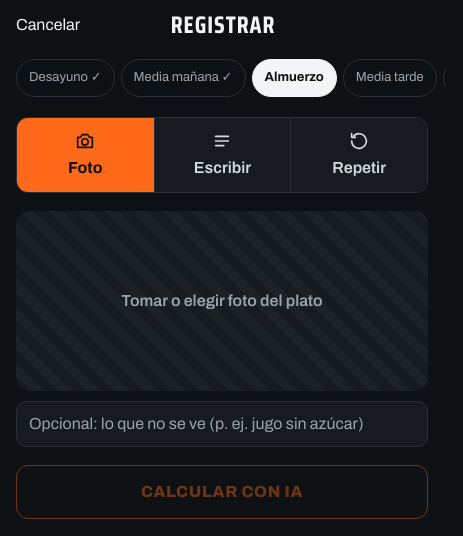
Test: FormRegistrar › al cambiar a Desayuno, Repetir muestra los desayunos
Click the tab "Repetir": (359, 154) x1=290 y1=118 x2=427 y2=192
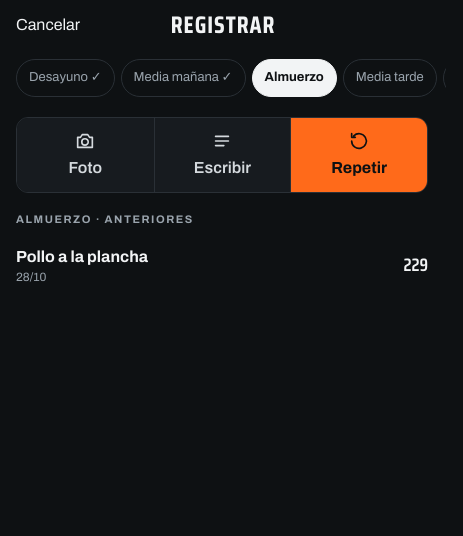
Click the button "Desayuno ✓": (65, 78) x1=16 y1=59 x2=115 y2=96
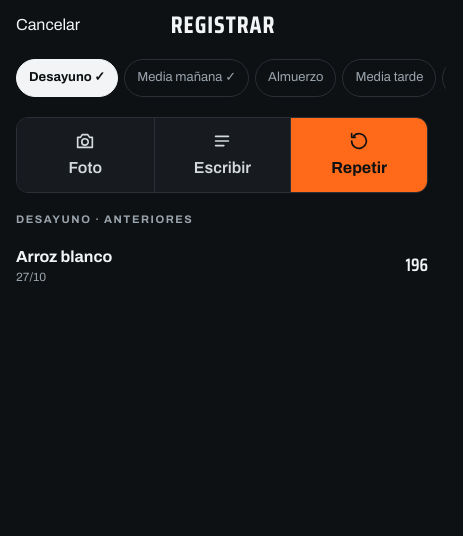
Check: the button "Arroz blanco 27/10 196" is shown, box x1=16 y1=233 x2=428 y2=297
Check: the button "Pollo a la plancha" is gone
